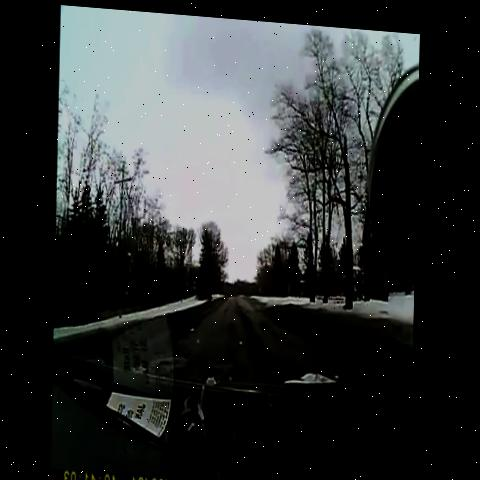pothole: (148, 336, 192, 374), (205, 341, 246, 376), (249, 322, 277, 372)
